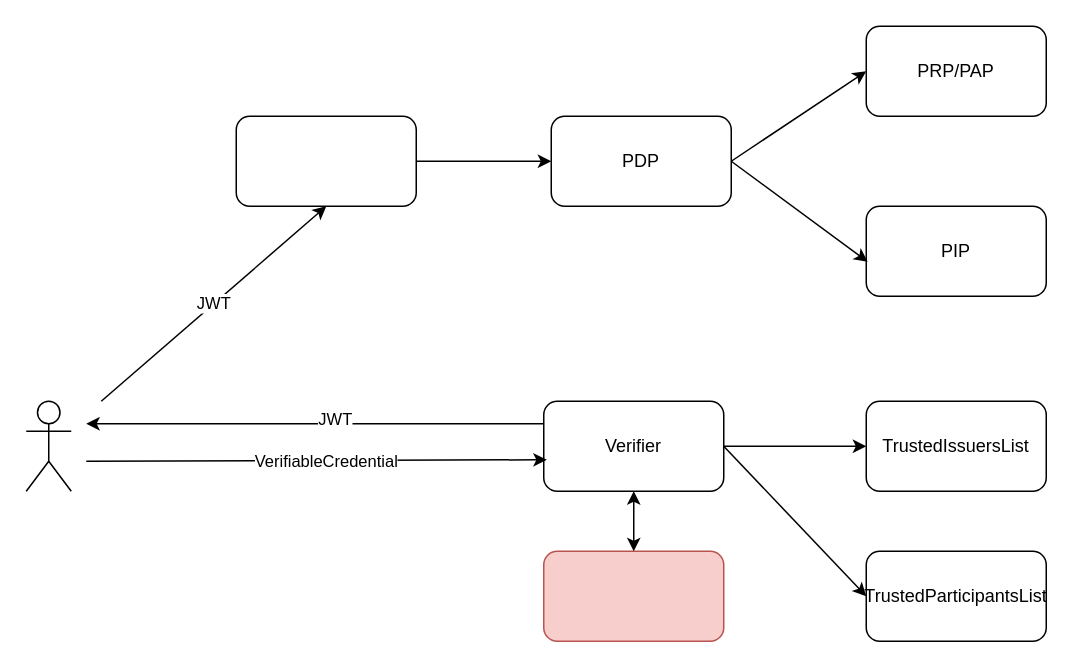
Image size: 1074x668. Some labels were removed from this diagram. Here are the shapes that lost their labels. From the top down, the centre of each, then its label:
[325,160]: PEP
[48,445]: Actor
[633,595]: Credentials Config Service
